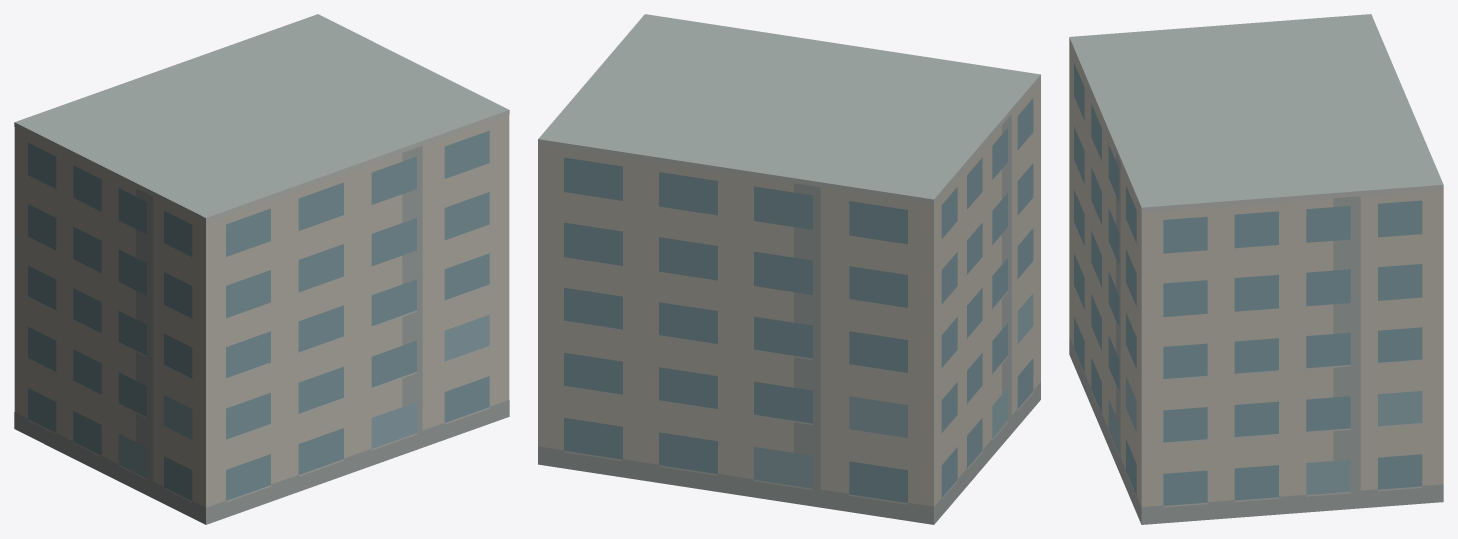
File: residential-aef0095d-6077-442c-b75f-162d9bb76a1b.glb
3 views of the same model, side by side, from view 1: azimuth 30°, elevation 25°; view 2: azimuth 150°, elevation 25°; view 3: azimuth 270°, elevation 25° (orthographic). The views are drawn at different scales.
Visible parts, largest first — view 1: residential-aef0095d-6077-442c-b75f-162d9bb76a1b.tmp; view 2: residential-aef0095d-6077-442c-b75f-162d9bb76a1b.tmp; view 3: residential-aef0095d-6077-442c-b75f-162d9bb76a1b.tmp.
Part boxes in pixels (bbox=[...]): residential-aef0095d-6077-442c-b75f-162d9bb76a1b.tmp: bbox=[14, 14, 509, 524]; residential-aef0095d-6077-442c-b75f-162d9bb76a1b.tmp: bbox=[538, 14, 1040, 524]; residential-aef0095d-6077-442c-b75f-162d9bb76a1b.tmp: bbox=[1069, 14, 1443, 524].
Size of the model in its own units: 19.97 by 15.25 by 16.32.
